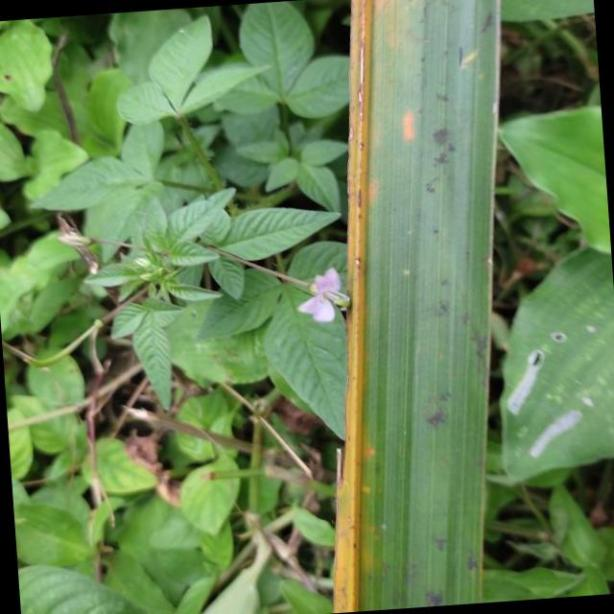Megnesium: (345, 6, 506, 614)
